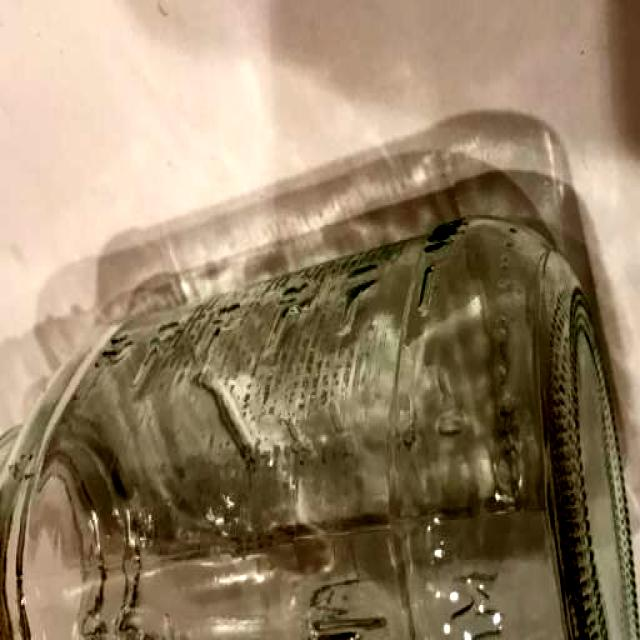Glass: (0, 210, 640, 640)
